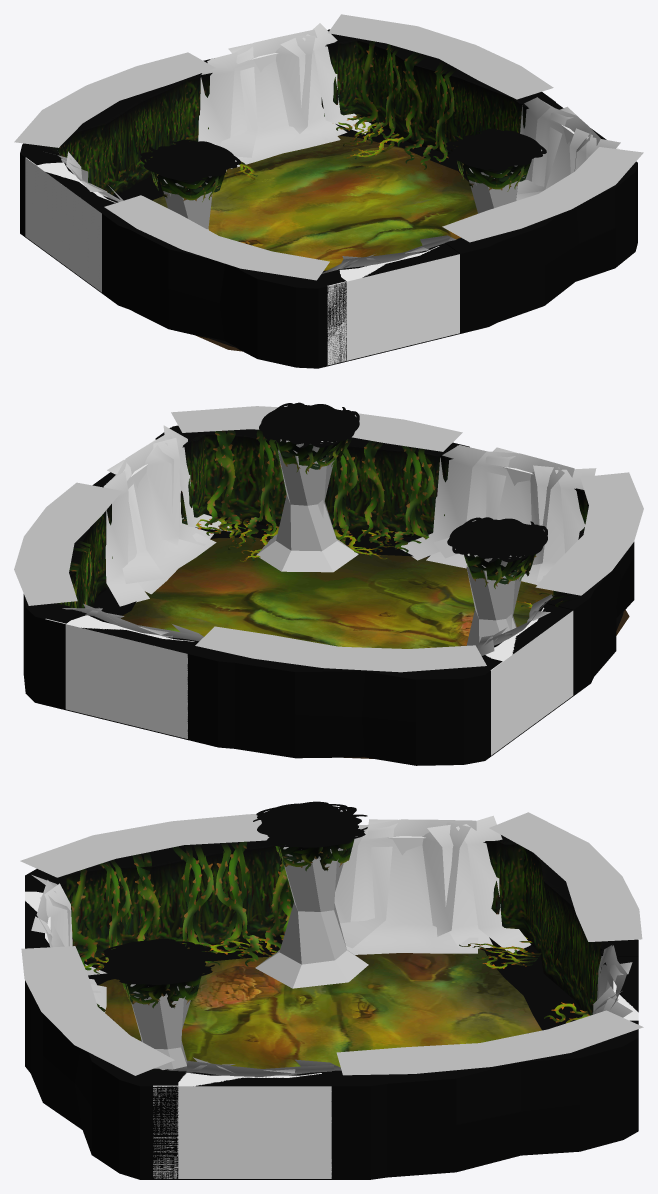
Rendered from Dungeon_021_Room_001.fbx.
The picture shows the model from 3 angles, top to bottom: view 1: azimuth 30°, elevation 25°; view 2: azimuth 150°, elevation 25°; view 3: azimuth 270°, elevation 25°; orthographic projection. The views are drawn at different scales.
Visible parts, largest first — view 1: Dun_021_Room_001_Wall, Dun_021_Room_001_Ground, Dun_021_Room_001_Object_03, un_021_Door_002_Object1 (×4), DoorWay_NavMask (1) (×2), Dungeon_021_Object_010 (×2), Dun_021_Room_001_Object_02, un_021_Door_002 (×3), Dungeon_021_Object_011 (×2), Dun_021_Room_001_shadow, Dun_021_Room_001_Object_01; view 2: Dun_021_Room_001_Wall, Dun_021_Room_001_Ground, un_021_Door_002_Object1 (×4), Dun_021_Room_001_Object_03, DoorWay_NavMask (1) (×2), Dungeon_021_Object_010 (×2), Dungeon_021_Object_011 (×2), Dun_021_Room_001_Object_02, un_021_Door_002 (×4), Dun_021_Room_001_shadow, Dun_021_Room_001_Object_01; view 3: Dun_021_Room_001_Wall, Dun_021_Room_001_Ground, Dun_021_Room_001_Object_03, un_021_Door_002_Object1 (×4), DoorWay_NavMask (1), Dungeon_021_Object_010 (×2), Dungeon_021_Object_011 (×2), Dun_021_Room_001_Object_02, un_021_Door_002 (×4), Dun_021_Room_001_shadow, Dun_021_Room_001_Object_01.
Boxes of the visible parts, x1=… form: Dun_021_Room_001_Wall: x1=20, y1=37, x2=637, y2=368; Dun_021_Room_001_Ground: x1=152, y1=135, x2=477, y2=351; Dun_021_Room_001_Object_03: x1=14, y1=14, x2=643, y2=280; un_021_Door_002_Object1 (×4): x1=57, y1=23, x2=620, y2=273; DoorWay_NavMask (1) (×2): x1=25, y1=157, x2=459, y2=365; Dungeon_021_Object_010 (×2): x1=140, y1=128, x2=546, y2=201; Dun_021_Room_001_Object_02: x1=355, y1=40, x2=457, y2=169; un_021_Door_002 (×3): x1=22, y1=29, x2=484, y2=361; Dungeon_021_Object_011 (×2): x1=163, y1=165, x2=518, y2=230; Dun_021_Room_001_shadow: x1=116, y1=123, x2=468, y2=348; Dun_021_Room_001_Object_01: x1=224, y1=114, x2=403, y2=180; Dun_021_Room_001_Wall: x1=23, y1=425, x2=634, y2=765; Dun_021_Room_001_Ground: x1=121, y1=537, x2=629, y2=758; un_021_Door_002_Object1 (×4): x1=62, y1=425, x2=596, y2=655; Dun_021_Room_001_Object_03: x1=14, y1=406, x2=643, y2=672; DoorWay_NavMask (1) (×2): x1=45, y1=611, x2=573, y2=755; Dungeon_021_Object_010 (×2): x1=259, y1=402, x2=547, y2=588; Dungeon_021_Object_011 (×2): x1=256, y1=439, x2=524, y2=648; Dun_021_Room_001_Object_02: x1=64, y1=429, x2=584, y2=608; un_021_Door_002 (×4): x1=40, y1=427, x2=588, y2=747; Dun_021_Room_001_shadow: x1=93, y1=520, x2=623, y2=756; Dun_021_Room_001_Object_01: x1=196, y1=514, x2=549, y2=607; Dun_021_Room_001_Wall: x1=25, y1=840, x2=638, y2=1179; Dun_021_Room_001_Ground: x1=99, y1=948, x2=541, y2=1068; Dun_021_Room_001_Object_03: x1=20, y1=812, x2=643, y2=1075; un_021_Door_002_Object1 (×4): x1=31, y1=815, x2=632, y2=1076; DoorWay_NavMask (1): x1=153, y1=1075, x2=331, y2=1178; Dungeon_021_Object_010 (×2): x1=100, y1=801, x2=367, y2=1008; Dungeon_021_Object_011 (×2): x1=129, y1=847, x2=368, y2=1069; Dun_021_Room_001_Object_02: x1=71, y1=841, x2=291, y2=1020; un_021_Door_002 (×4): x1=25, y1=835, x2=638, y2=1179; Dun_021_Room_001_shadow: x1=86, y1=937, x2=582, y2=1030; Dun_021_Room_001_Object_01: x1=84, y1=935, x2=589, y2=1033.
Size of what is drawn, in the model's own units: 12.21 by 3.03 by 12.32.
